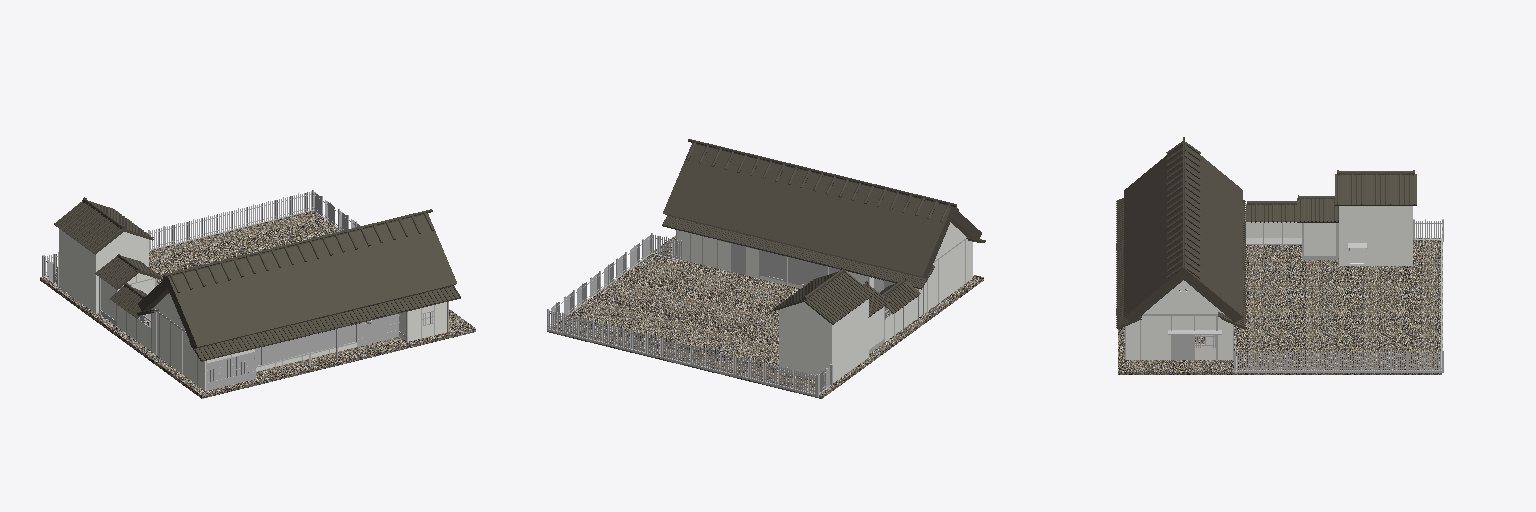
The picture shows the model from 3 angles: view 1: azimuth 30°, elevation 25°; view 2: azimuth 150°, elevation 25°; view 3: azimuth 270°, elevation 25°; orthographic projection.
Visible parts, largest first — view 1: Cube; view 2: Cube; view 3: Cube.
Boxes of the visible parts, x1,y1,x2,y2 form: Cube: [40, 190, 475, 398]; Cube: [547, 139, 985, 398]; Cube: [1116, 137, 1443, 374].
Bounding box in the file's own units: 45.12 × 15.55 × 45.5.
Materials: 5 (2 with a texture image).